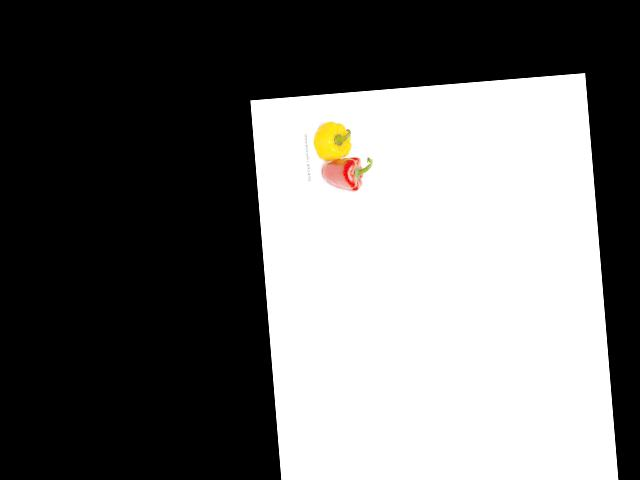bell_pepper: (308, 118, 356, 163)
